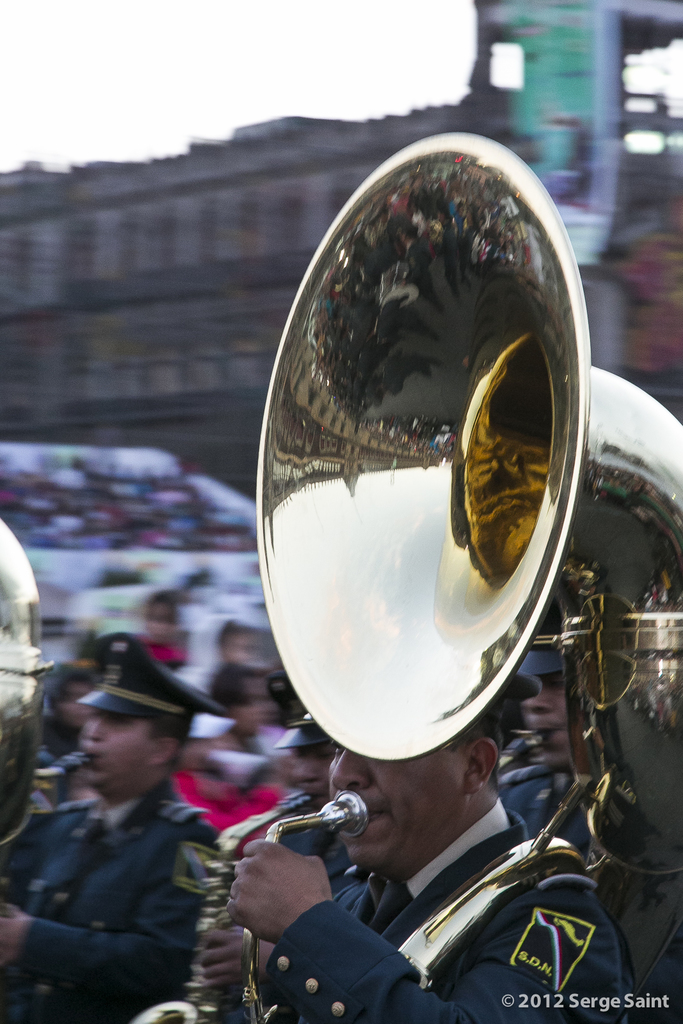Person: (0, 562, 683, 1024)
